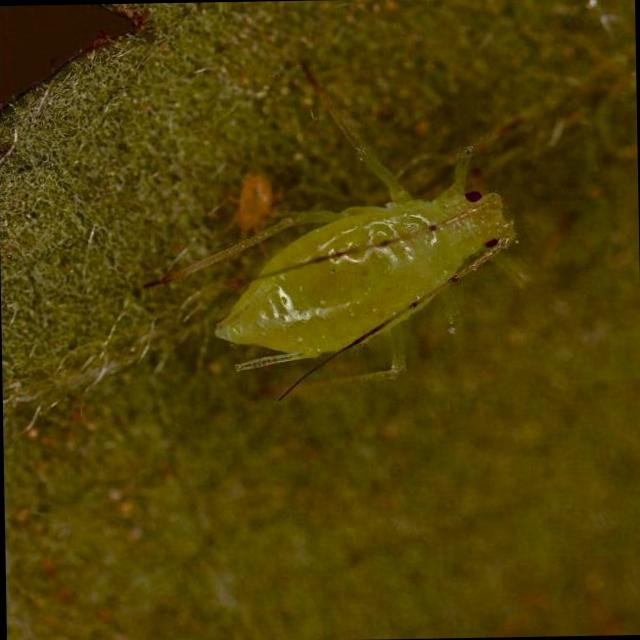aphid: (227, 182, 524, 354)
